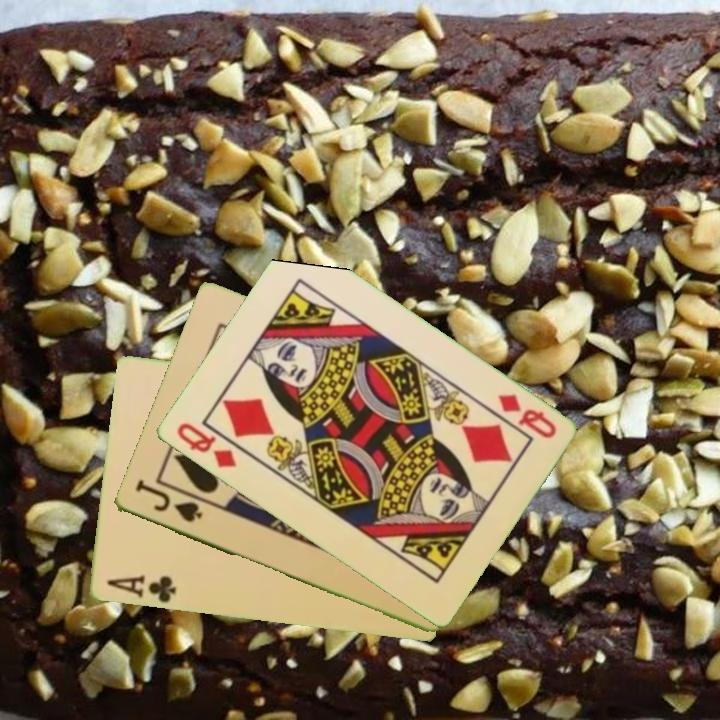Ac: (103, 571, 179, 606)
Js: (131, 478, 205, 526)
Qd: (172, 419, 239, 471), (493, 390, 559, 442)
